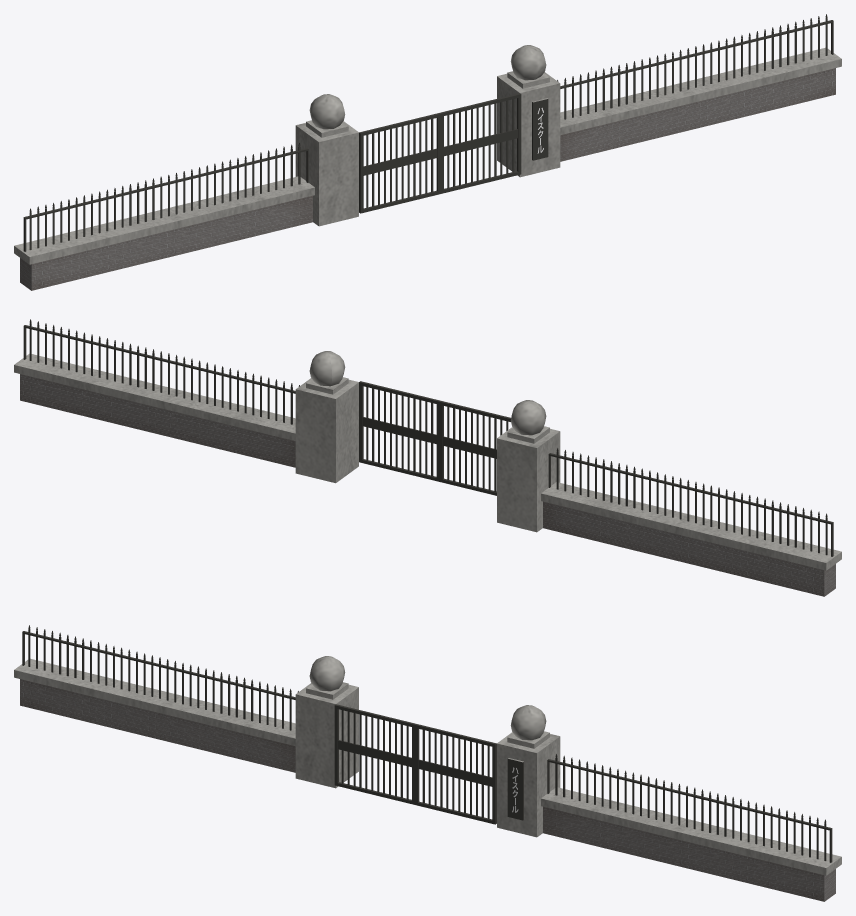
Rendered from entrance02_door.dae.
The picture shows the model from 3 angles, top to bottom: view 1: azimuth 30°, elevation 25°; view 2: azimuth 150°, elevation 25°; view 3: azimuth 330°, elevation 25°; orthographic projection.
Visible parts, largest first — view 1: entrance02_left_, entrance02_right, entrance02_ldoor, entrance02_rdoor, entrance02_sign; view 2: entrance02_left_, entrance02_right, entrance02_rdoor, entrance02_ldoor; view 3: entrance02_left_, entrance02_right, entrance02_rdoor, entrance02_ldoor, entrance02_sign.
Part boxes in pixels (<box>): entrance02_left_: <box>14,94,358,290</box>; entrance02_right: <box>497,14,841,177</box>; entrance02_ldoor: <box>359,113,440,213</box>; entrance02_rdoor: <box>440,93,521,193</box>; entrance02_sign: <box>532,98,548,160</box>; entrance02_left_: <box>497,400,841,596</box>; entrance02_right: <box>14,319,358,483</box>; entrance02_rdoor: <box>359,381,440,481</box>; entrance02_ldoor: <box>439,401,510,495</box>; entrance02_left_: <box>14,625,358,788</box>; entrance02_right: <box>497,705,841,901</box>; entrance02_rdoor: <box>415,724,496,824</box>; entrance02_ldoor: <box>334,704,415,804</box>; entrance02_sign: <box>507,758,523,820</box>.
Bounding box in the file's own units: 20.19 × 2.79 × 1.06.
